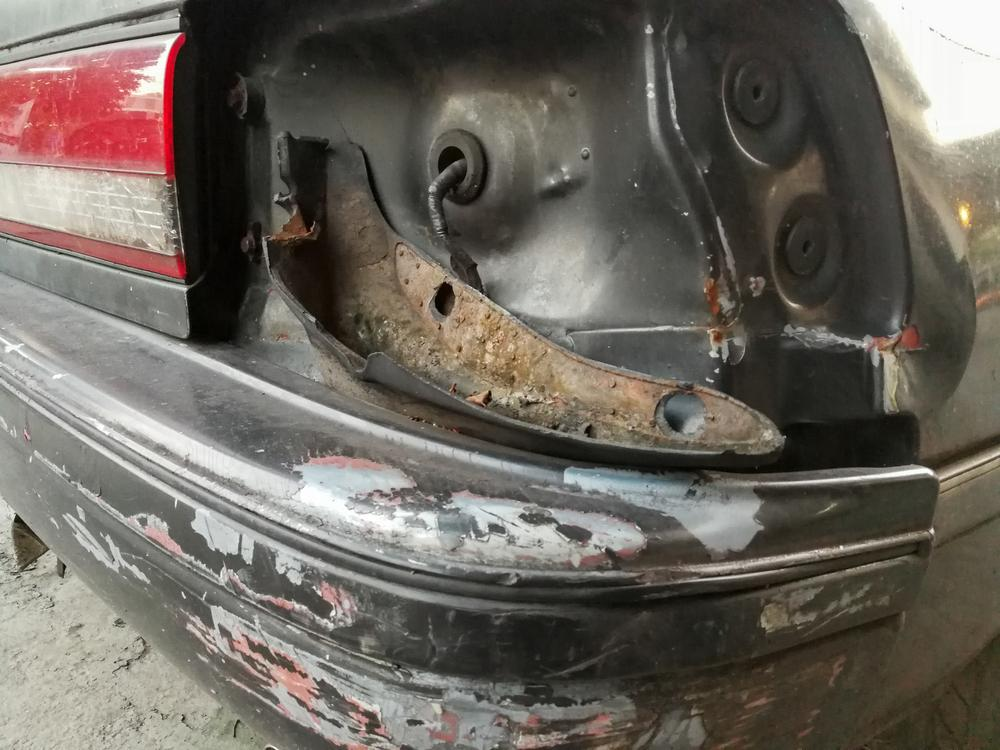scratch: (5, 435, 889, 750)
